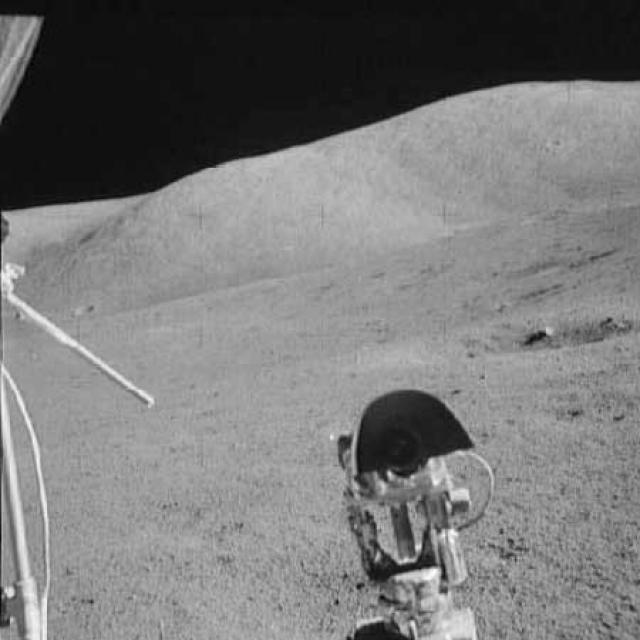artifact: (313, 384, 495, 639), (0, 256, 158, 408), (0, 408, 66, 639), (0, 17, 49, 133)
crater: (393, 319, 634, 351)
